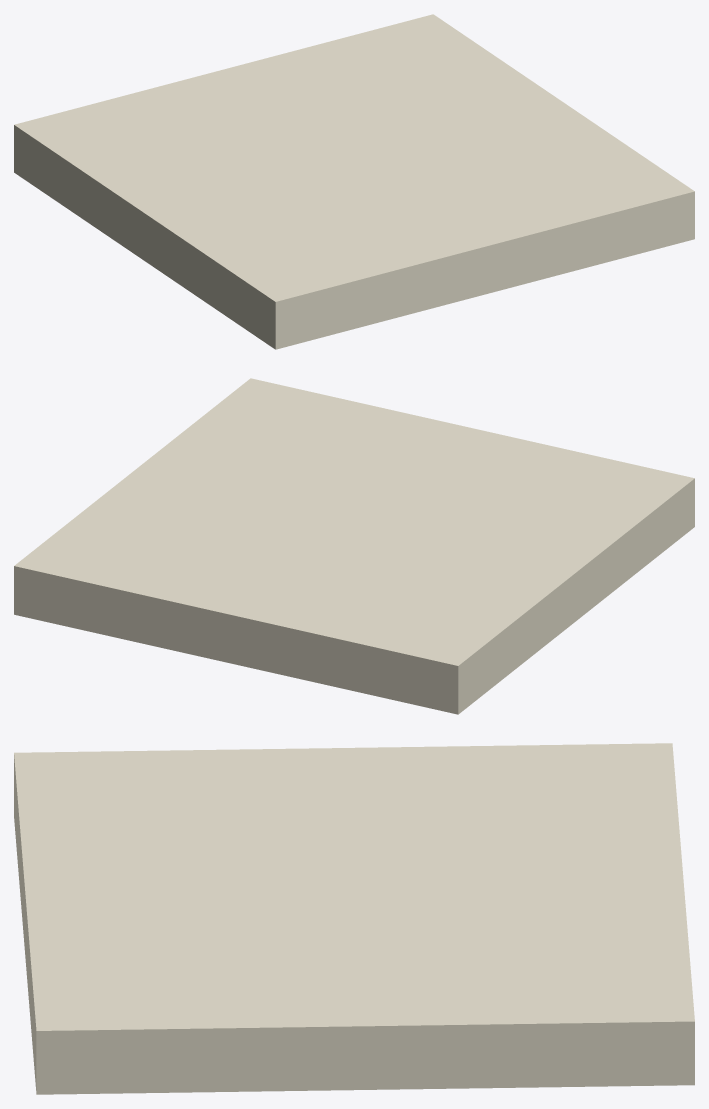
The model's file is camino_13_lev1.glb.
3 views of the same model, one above another, from view 1: azimuth 30°, elevation 25°; view 2: azimuth 150°, elevation 25°; view 3: azimuth 270°, elevation 25° (orthographic). The views are drawn at different scales.
Visible parts, largest first — view 1: camino_13_lev1; view 2: camino_13_lev1; view 3: camino_13_lev1.
Part boxes in pixels (<box>): camino_13_lev1: <box>14,14,694,349</box>; camino_13_lev1: <box>14,378,694,714</box>; camino_13_lev1: <box>14,743,694,1094</box>.
Size of the model in its own units: 1.55 by 0.16 by 1.55.
